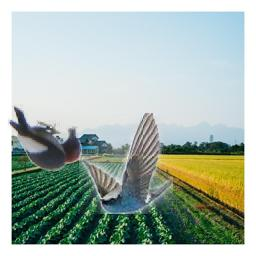Swallow: (79, 114, 173, 215)
Woodpecker: (7, 105, 84, 172)
